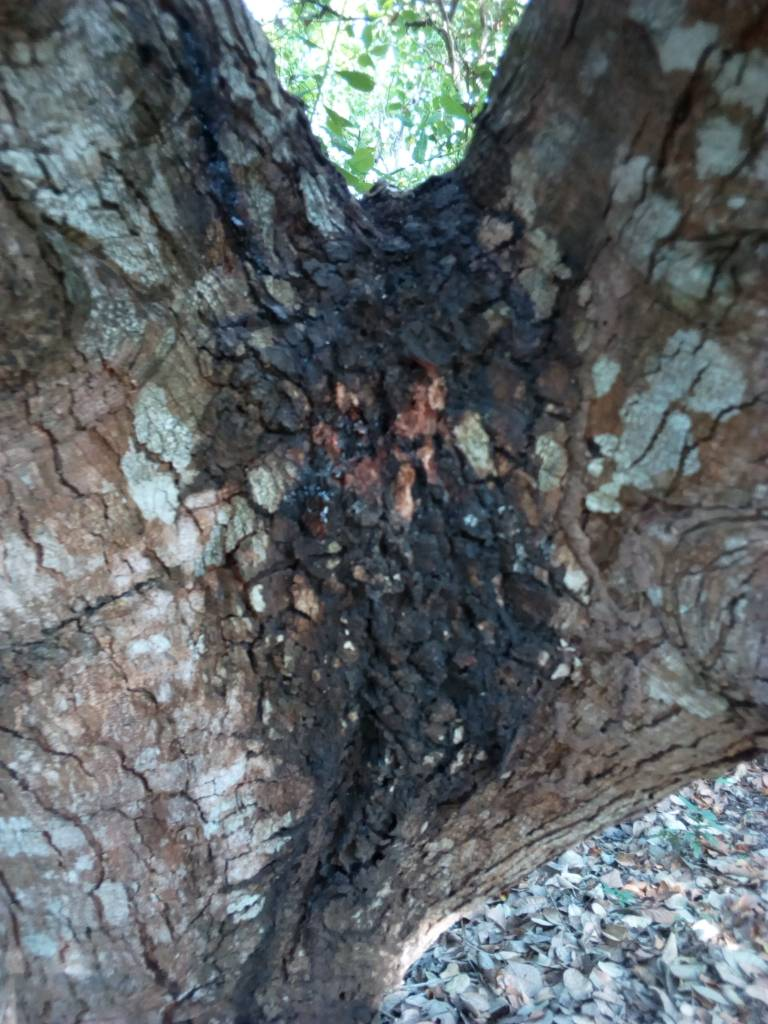Gommose: (210, 152, 540, 974)
